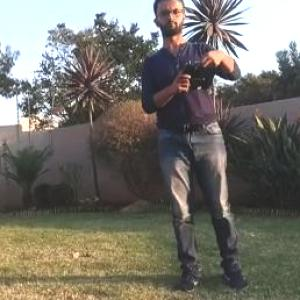follow: (135, 0, 251, 299)
